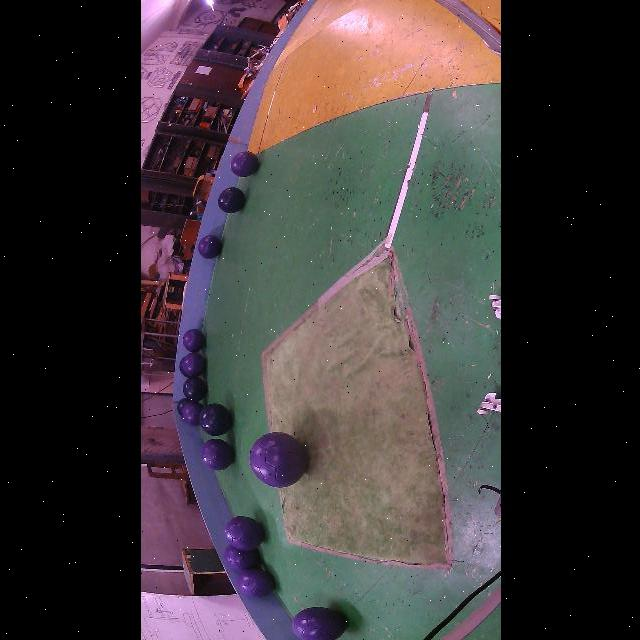B: (199, 404, 231, 436), (218, 188, 244, 214), (181, 378, 206, 401), (176, 398, 189, 418), (178, 359, 189, 378)
P: (249, 432, 306, 488), (290, 608, 345, 640), (224, 516, 264, 551), (236, 569, 274, 598), (200, 439, 232, 470), (222, 545, 259, 571), (230, 151, 258, 178), (181, 352, 205, 376), (181, 329, 205, 352), (198, 235, 221, 259), (181, 401, 202, 426)
